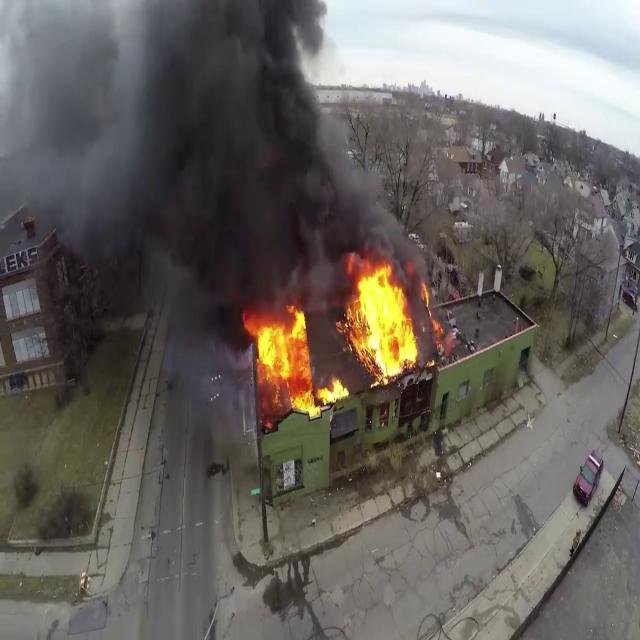Fire: (245, 302, 342, 416), (340, 261, 422, 383)
Smoke: (0, 0, 403, 309)
